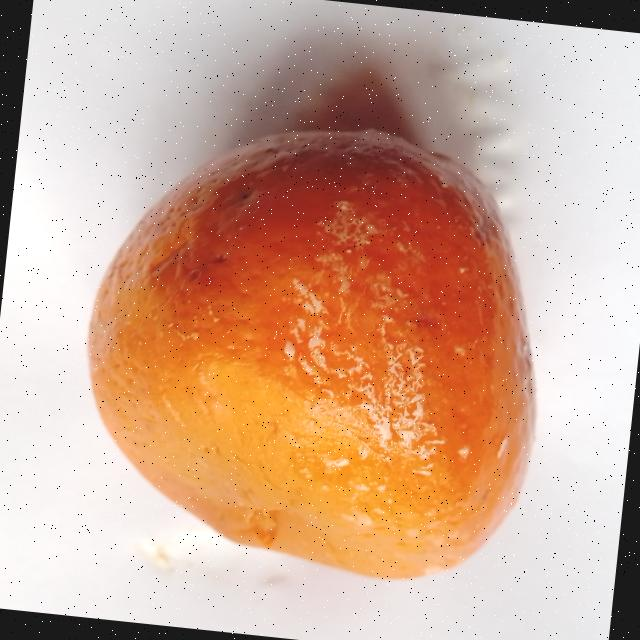Rotten: (65, 95, 566, 590)
